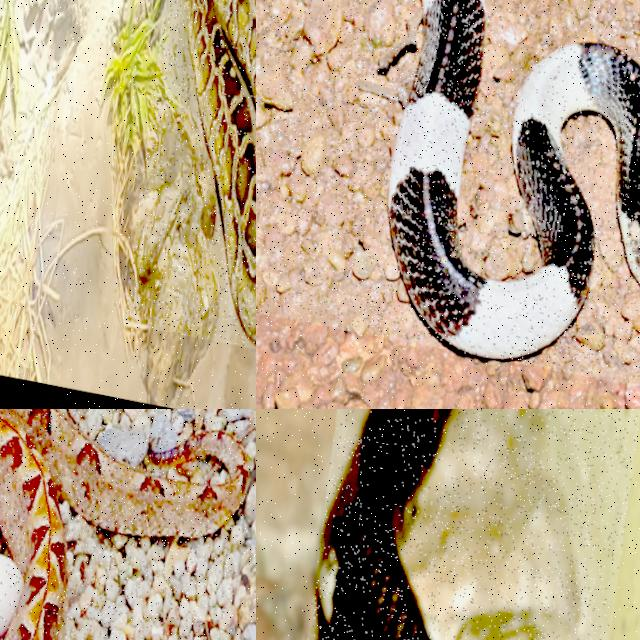Bungarus candidus: (388, 0, 639, 358)
Calloselasma rhodostoma: (0, 409, 248, 639)
Naja siamensis: (316, 409, 452, 639)
Python bivittatus: (186, 0, 255, 344)
snake: (388, 0, 639, 358), (0, 409, 248, 639), (316, 409, 452, 639), (186, 0, 255, 344)
